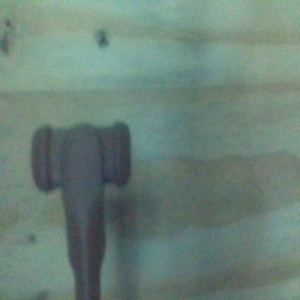palu: (29, 120, 132, 300)
